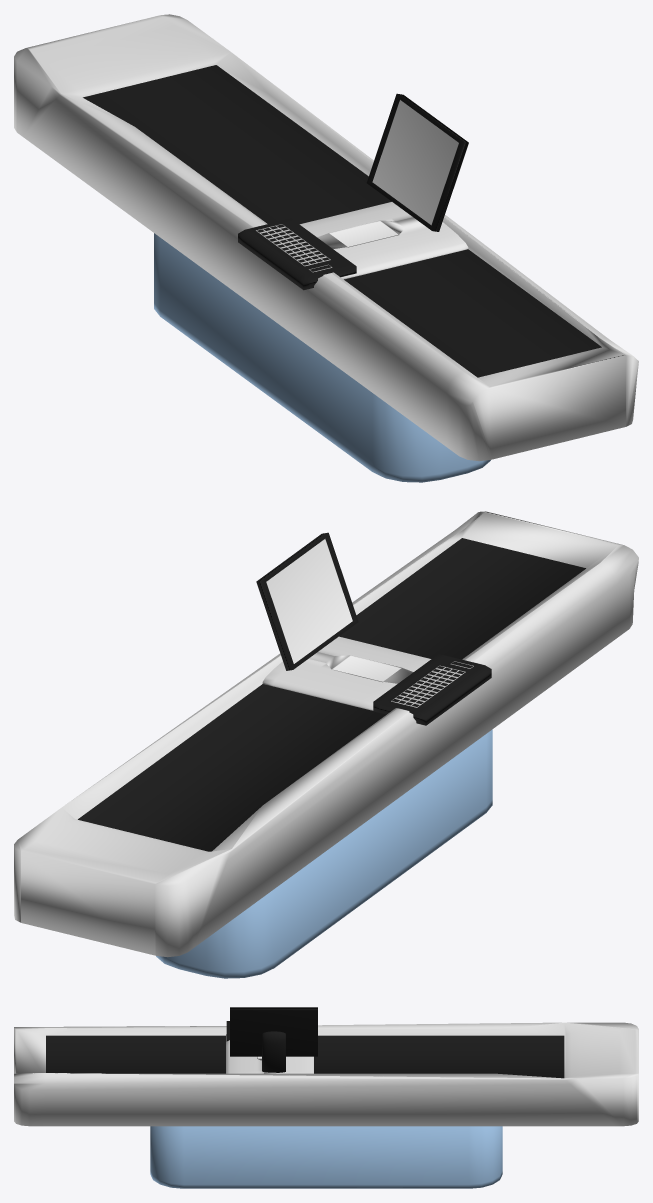
Rendered from checkout.fbx.
The picture shows the model from 3 angles, top to bottom: view 1: azimuth 30°, elevation 25°; view 2: azimuth 150°, elevation 25°; view 3: azimuth 270°, elevation 25°; orthographic projection. The views are drawn at different scales.
Visible parts, largest first — view 1: Tapis, Base, Screen, Scan, Clavier; view 2: Tapis, Base, Screen, Scan, Clavier; view 3: Tapis, Base, Screen, Scan, Cylinder.
Boxes of the visible parts, bbox=[...] form: Tapis: bbox=[14, 14, 638, 461]; Base: bbox=[154, 233, 490, 482]; Screen: bbox=[366, 93, 468, 231]; Scan: bbox=[299, 202, 468, 279]; Clavier: bbox=[238, 218, 356, 290]; Tapis: bbox=[14, 511, 638, 957]; Base: bbox=[156, 729, 492, 978]; Screen: bbox=[256, 532, 358, 670]; Scan: bbox=[262, 636, 431, 710]; Clavier: bbox=[373, 654, 491, 725]; Tapis: bbox=[14, 1022, 638, 1126]; Base: bbox=[150, 1126, 502, 1188]; Screen: bbox=[230, 1007, 317, 1056]; Scan: bbox=[226, 1034, 313, 1073]; Cylinder: bbox=[262, 1031, 285, 1072].
Size of the model in its own units: 315 by 464 by 1420.
